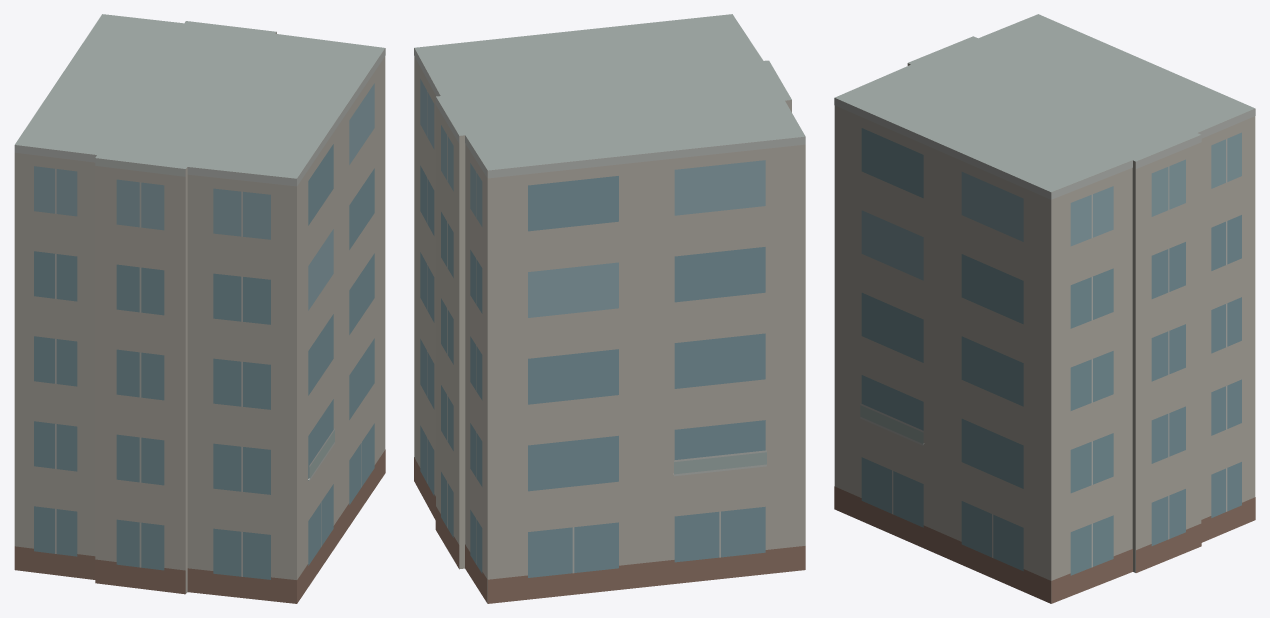
The model's file is survey-upis-32636019.glb.
3 views of the same model, side by side, from view 1: azimuth 30°, elevation 25°; view 2: azimuth 150°, elevation 25°; view 3: azimuth 270°, elevation 25° (orthographic). The views are drawn at different scales.
Parts seen in each view (by area): view 1: survey-upis-32636019.tmp; view 2: survey-upis-32636019.tmp; view 3: survey-upis-32636019.tmp.
Part boxes in pixels (box(x1,y1,x2,y2)): survey-upis-32636019.tmp: box(14, 14, 385, 603); survey-upis-32636019.tmp: box(414, 14, 805, 603); survey-upis-32636019.tmp: box(834, 14, 1255, 603).
Bounding box in the file's own units: 12.36 × 13.3 × 12.34.
